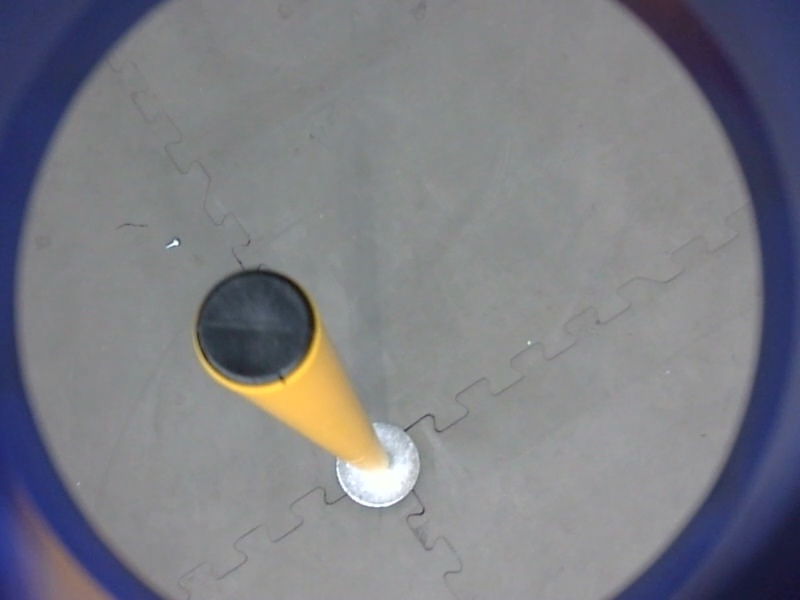tip: (187, 261, 327, 401)
